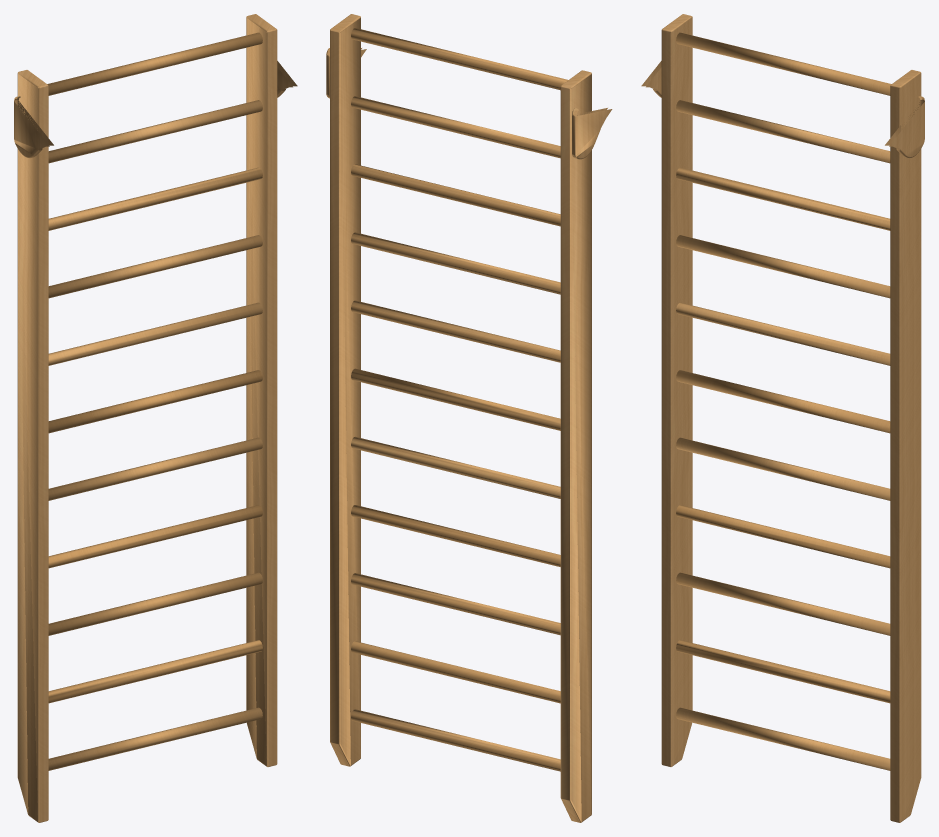
File: spalliera.glb
The picture shows the model from 3 angles, left to right: view 1: azimuth 30°, elevation 25°; view 2: azimuth 150°, elevation 25°; view 3: azimuth 330°, elevation 25°; orthographic projection.
Bounding box in the file's own units: 0.845 × 2.4 × 0.2206.
Materials: 2 (2 with a texture image).
